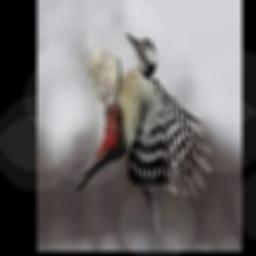Woodpecker: (76, 33, 213, 233)
